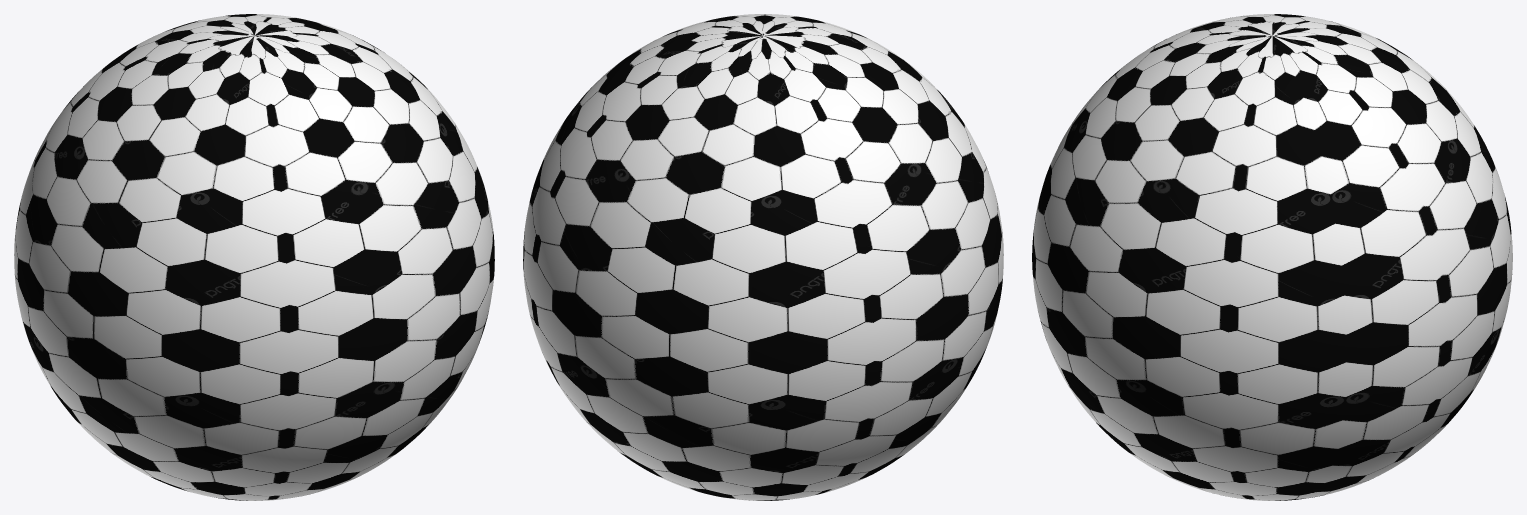
The model's file is work3.fbx.
The picture shows the model from 3 angles, left to right: view 1: azimuth 30°, elevation 25°; view 2: azimuth 150°, elevation 25°; view 3: azimuth 270°, elevation 25°; orthographic projection.
Visible parts, largest first — view 1: pSphere2; view 2: pSphere2; view 3: pSphere2.
Part boxes in pixels (left/top/right/bottom): pSphere2: left=14, top=14, right=494, bottom=500; pSphere2: left=523, top=14, right=1003, bottom=500; pSphere2: left=1032, top=14, right=1512, bottom=500.
Size of the model in its own units: 1298 by 1321 by 1298.
1 material, 1 textured.
